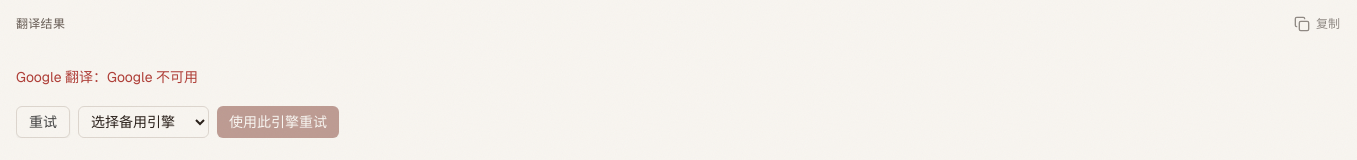
Test: desk translation recovery › retries with the selected fallback and displays its engine
Select "Microsoft 翻译" in the dropdown named "备用翻译引擎". click: {"x": 144, "y": 122}
box: [78, 106, 209, 138]
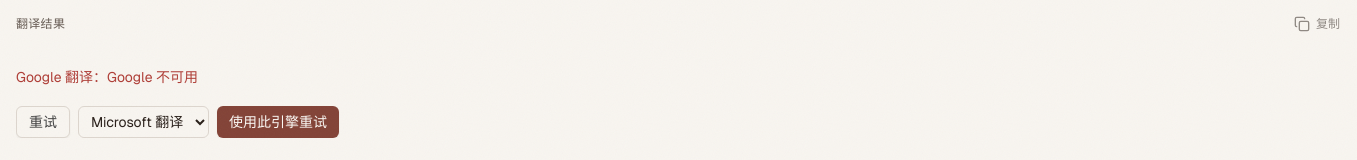
Click the button "使用此引擎重试". click: {"x": 278, "y": 122}
box: [217, 106, 339, 138]
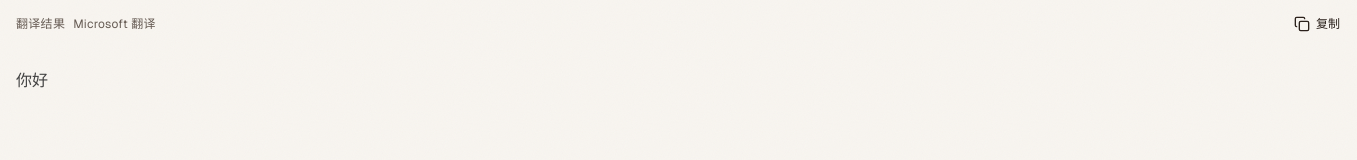
Expected: the text "Microsoft 翻译" is shown, [73, 16, 156, 32]
